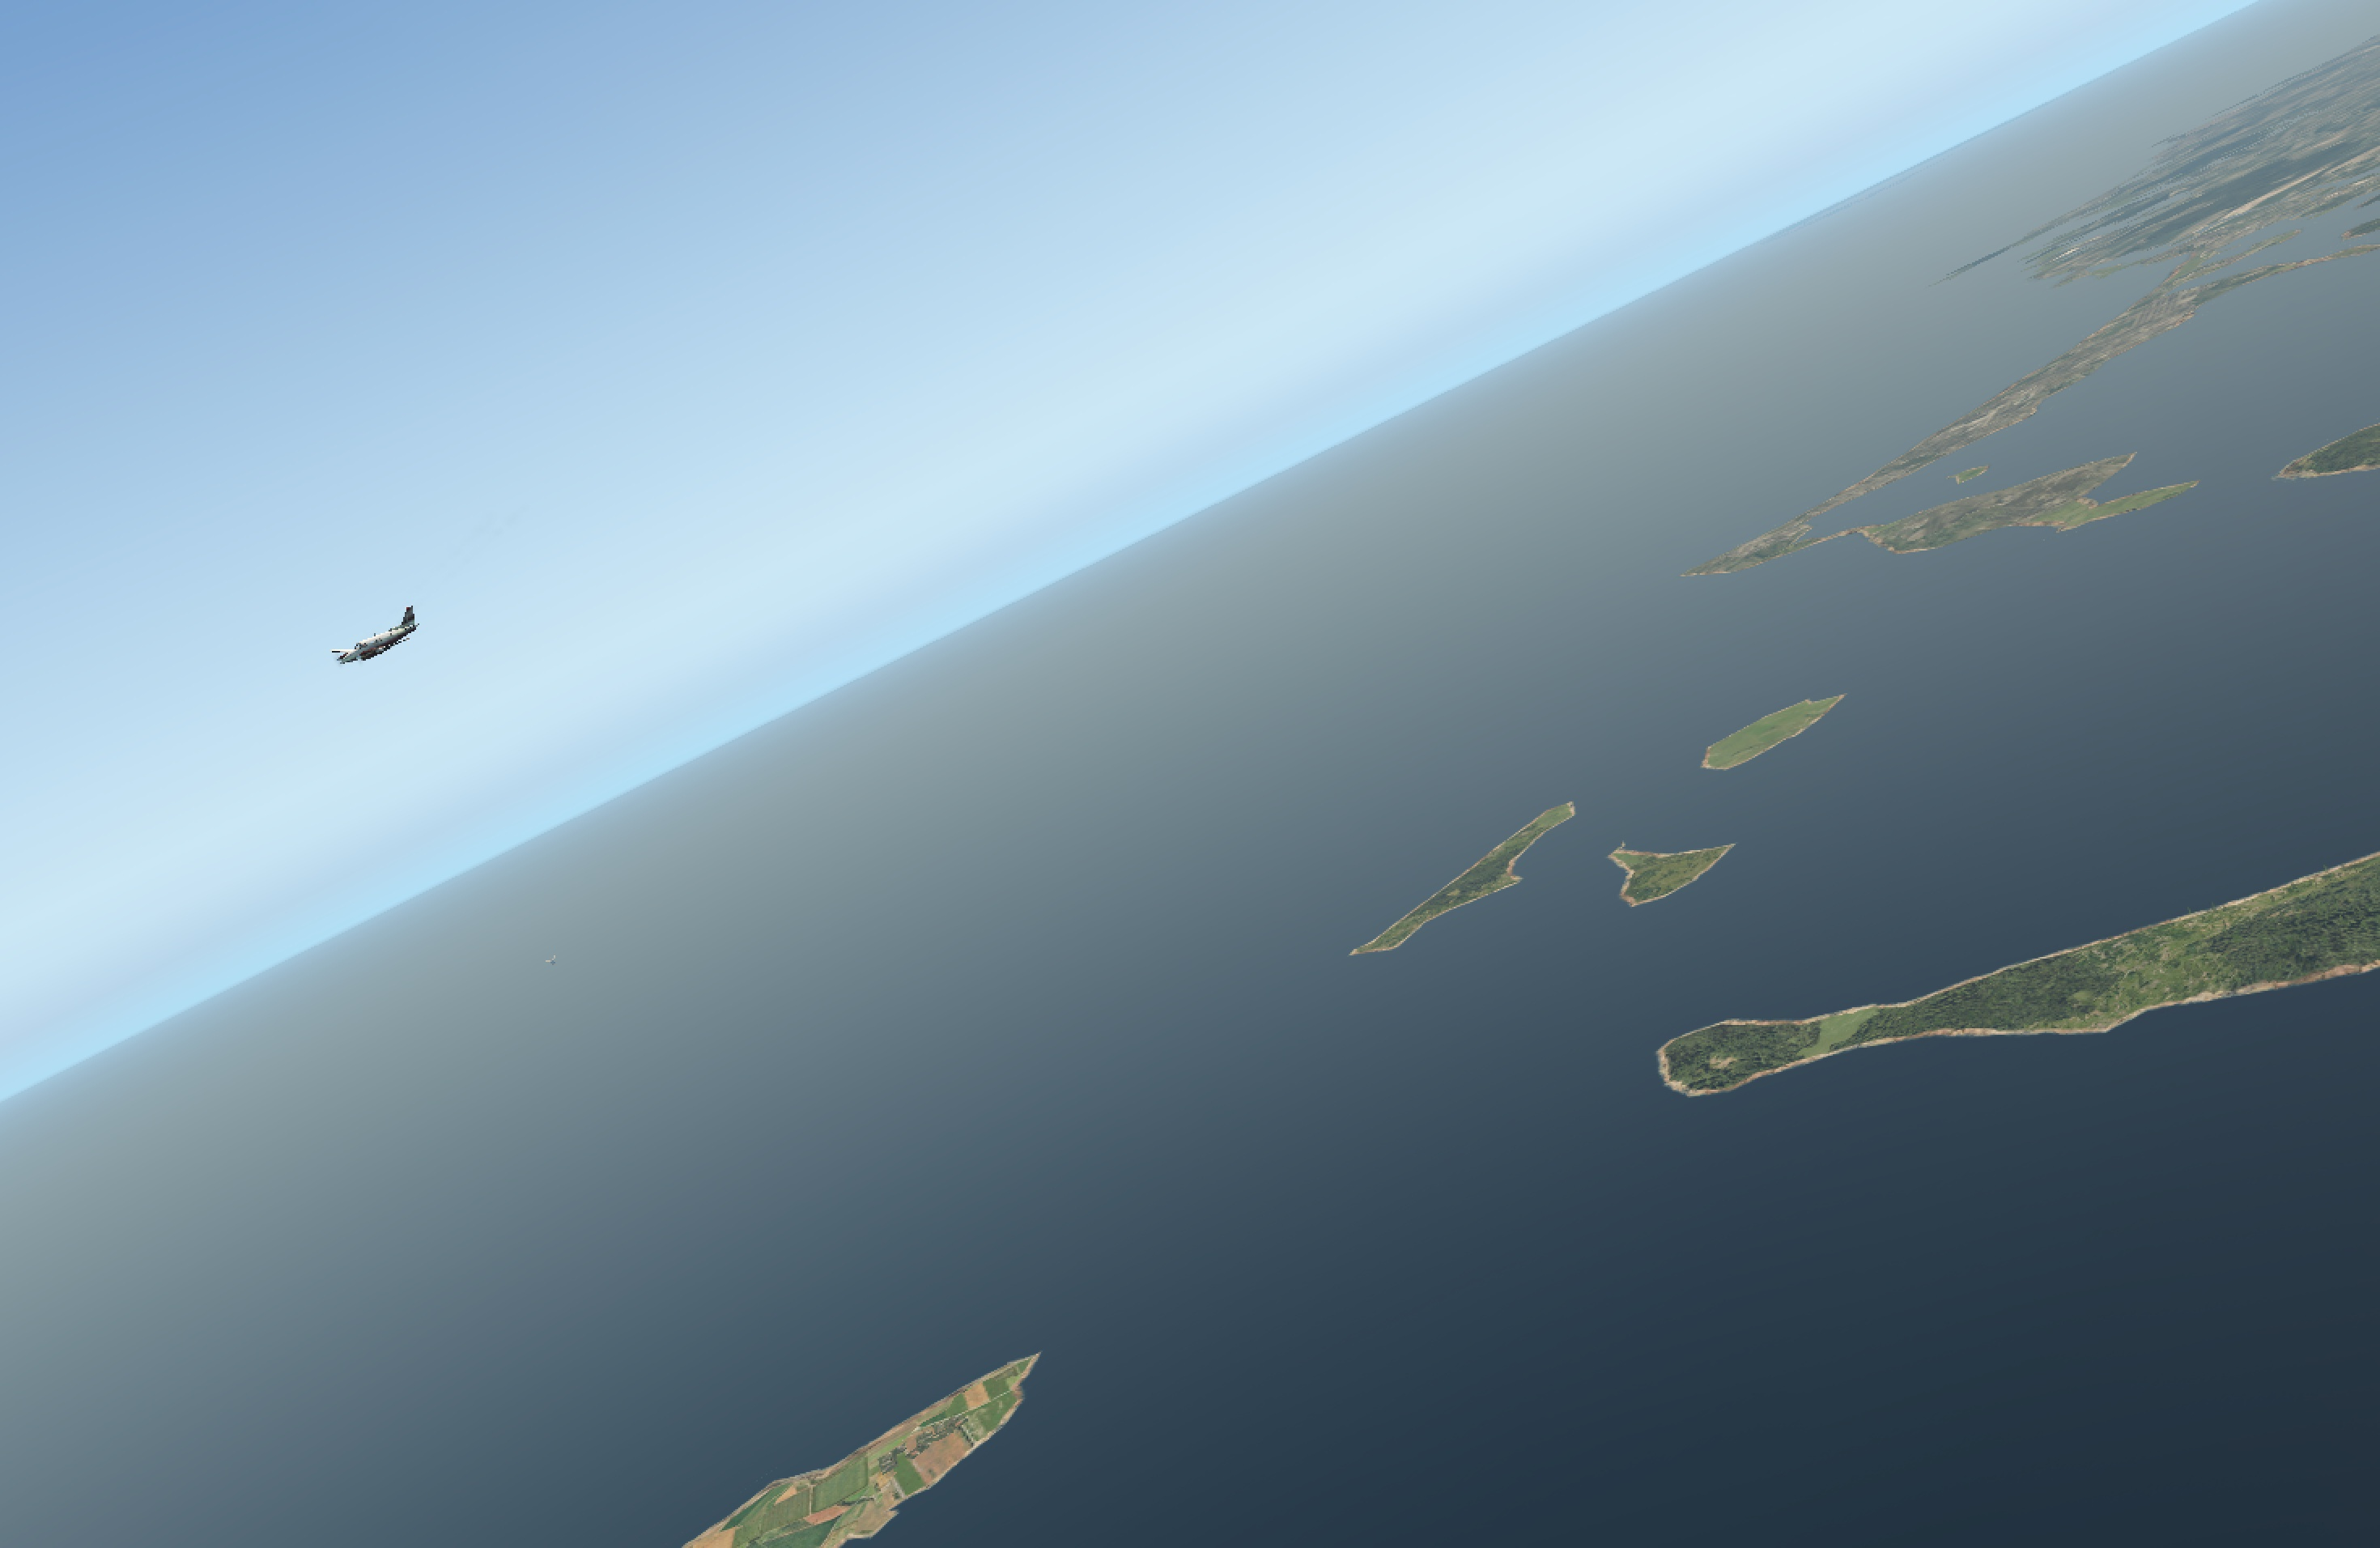aircraft: (305, 630, 435, 679)
